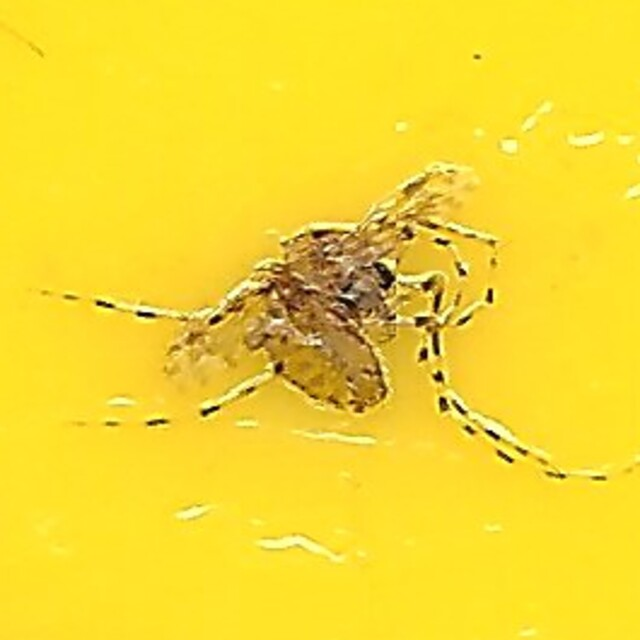Nematocera: (242, 218, 398, 422)
